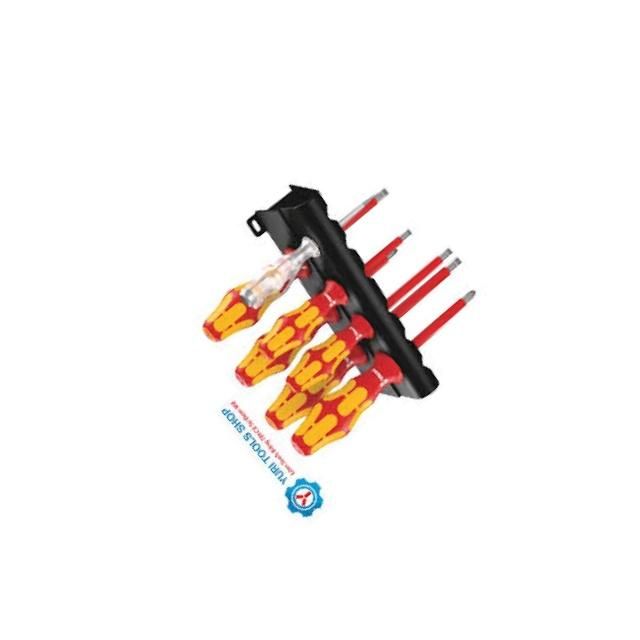screwdriver: (256, 244, 476, 438), (278, 272, 497, 466), (190, 169, 398, 355), (222, 230, 412, 400), (277, 237, 461, 399), (251, 213, 424, 366), (235, 178, 385, 312)
